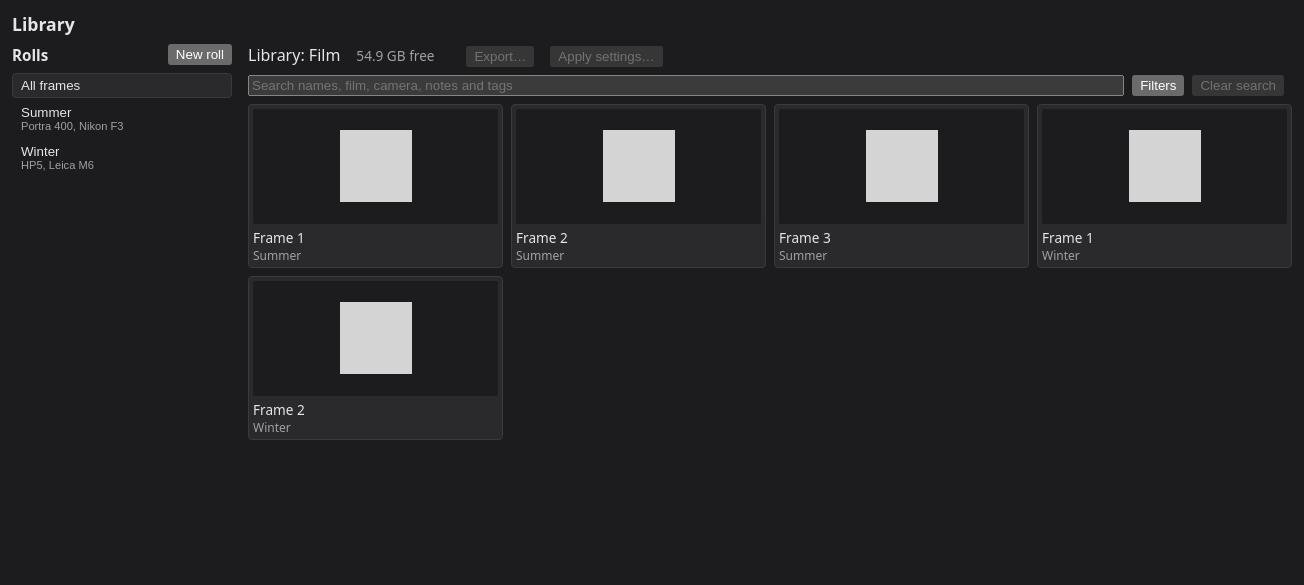
search, filters and tags in the Library view › filters › are folded away until asked for, and say how many are set
Click the button "Filters": click(1158, 86) 1132,75 -> 1184,96
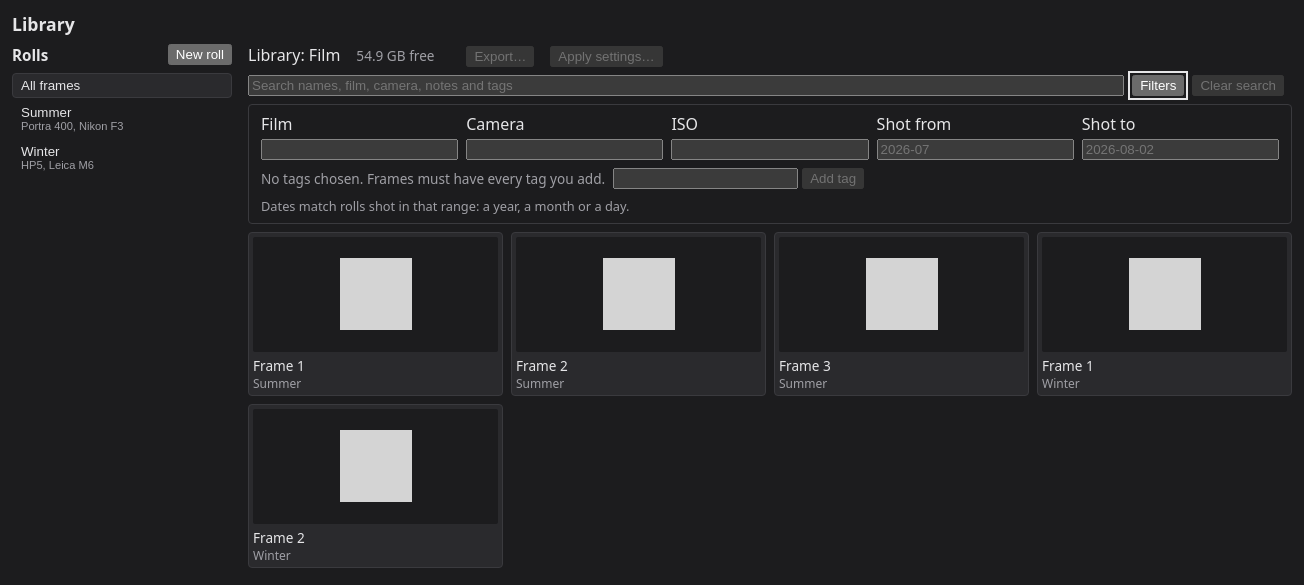
In the field labelled "Film": (360, 150) 261,139 -> 458,160, type "HP5"
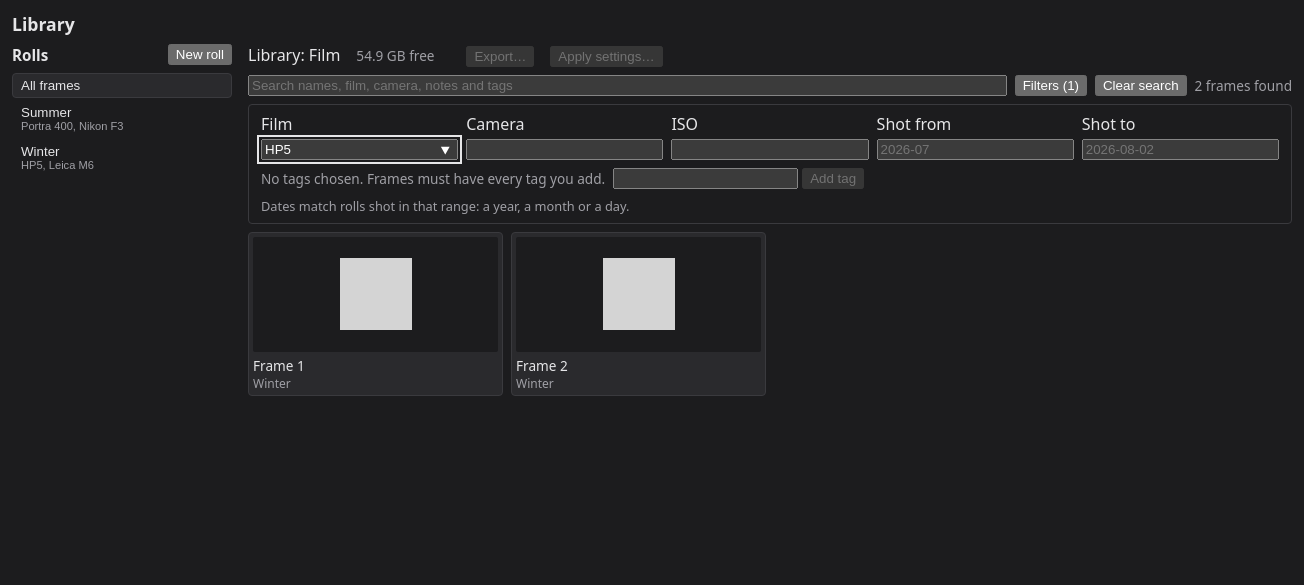
Expected: the number of cells is 2, 248,232 -> 503,396; 511,232 -> 766,396
Now the button "Filters (1)" is shown, box 1015,75 -> 1087,96
